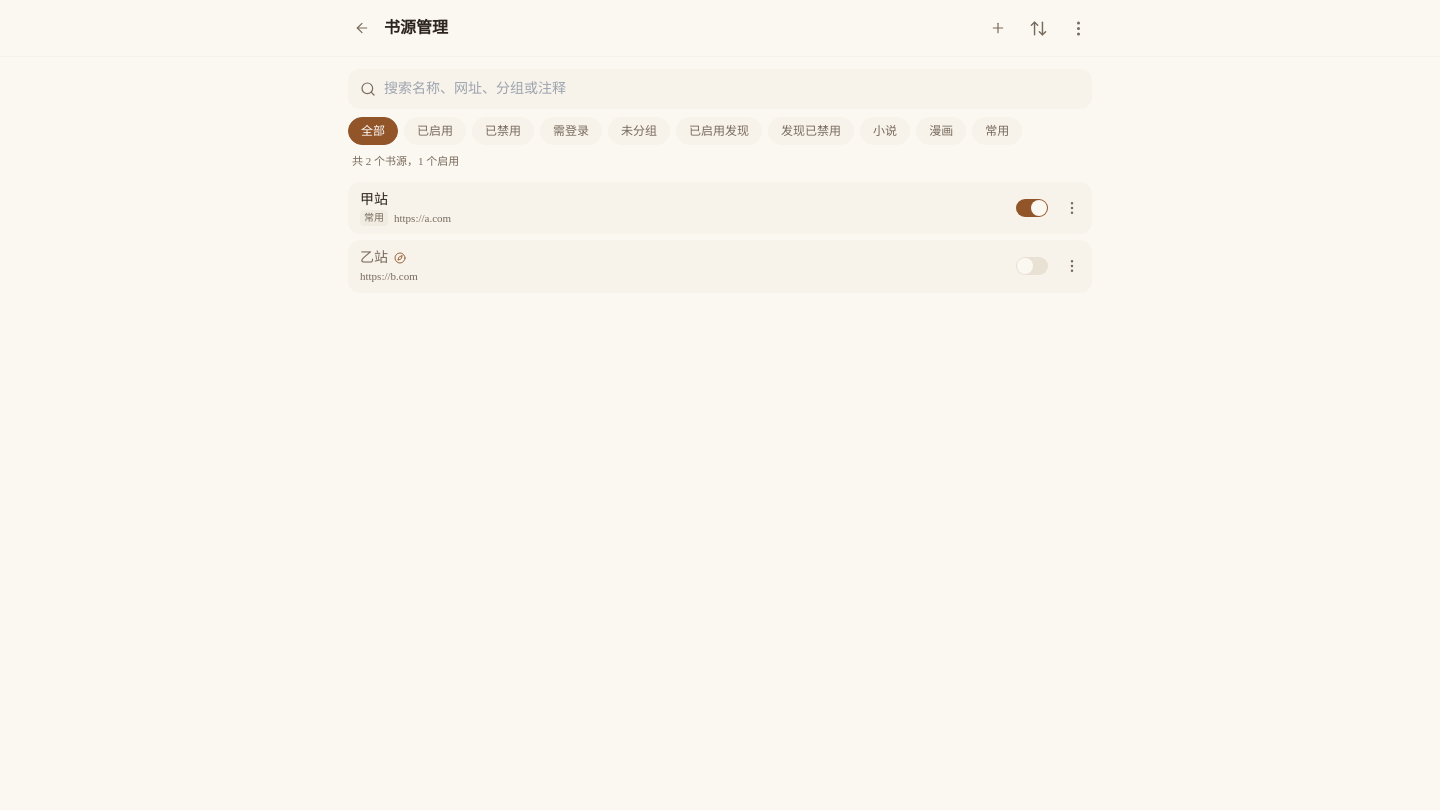
Test: 书源管理 › checks sources and reports progress until done
Expected: the text "甲站" is shown, [360, 190, 388, 210]
Click the button named "甲站 的更多操作" at (1072, 208), box [1056, 192, 1088, 224]
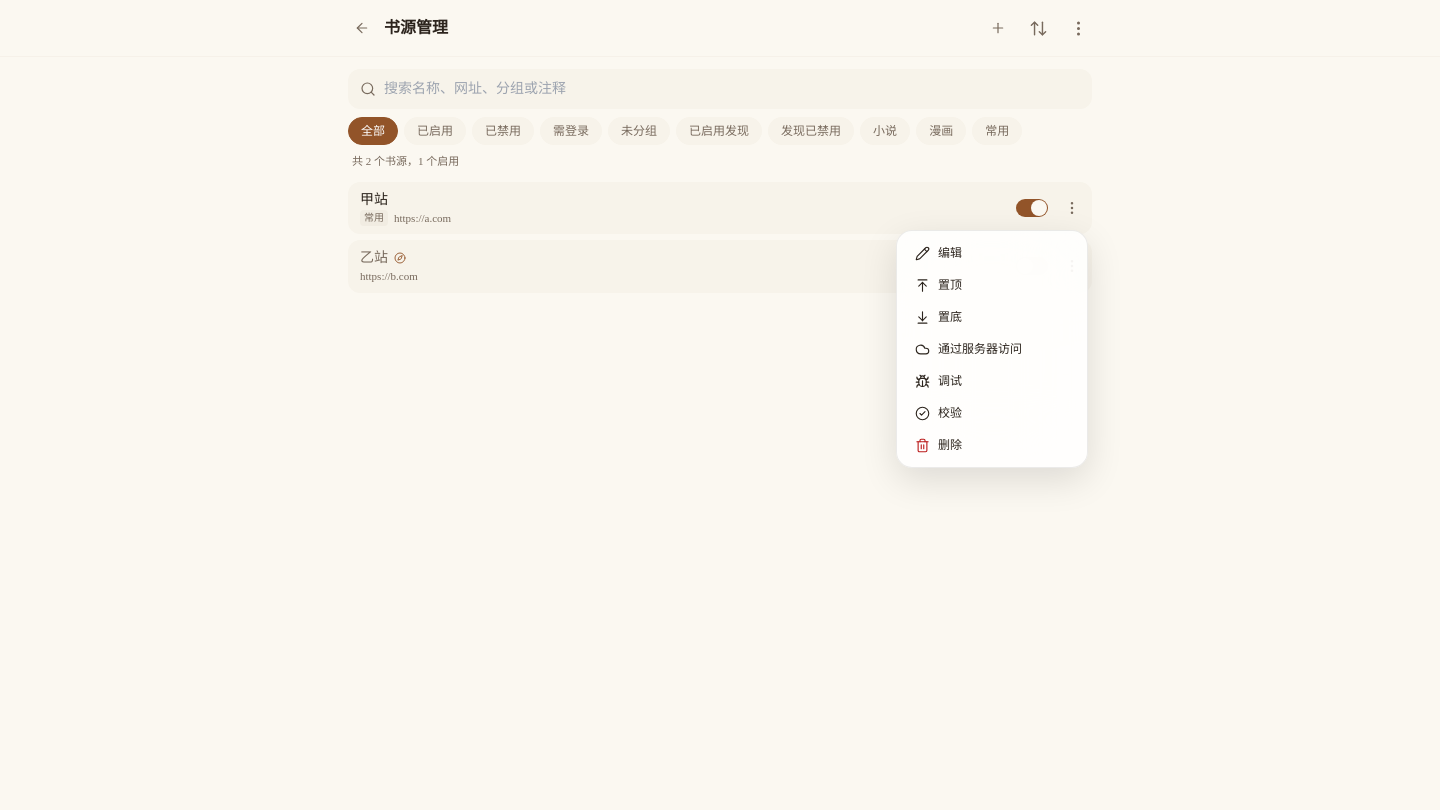
Click the menu item "校验" at (938, 413), box [915, 406, 962, 420]
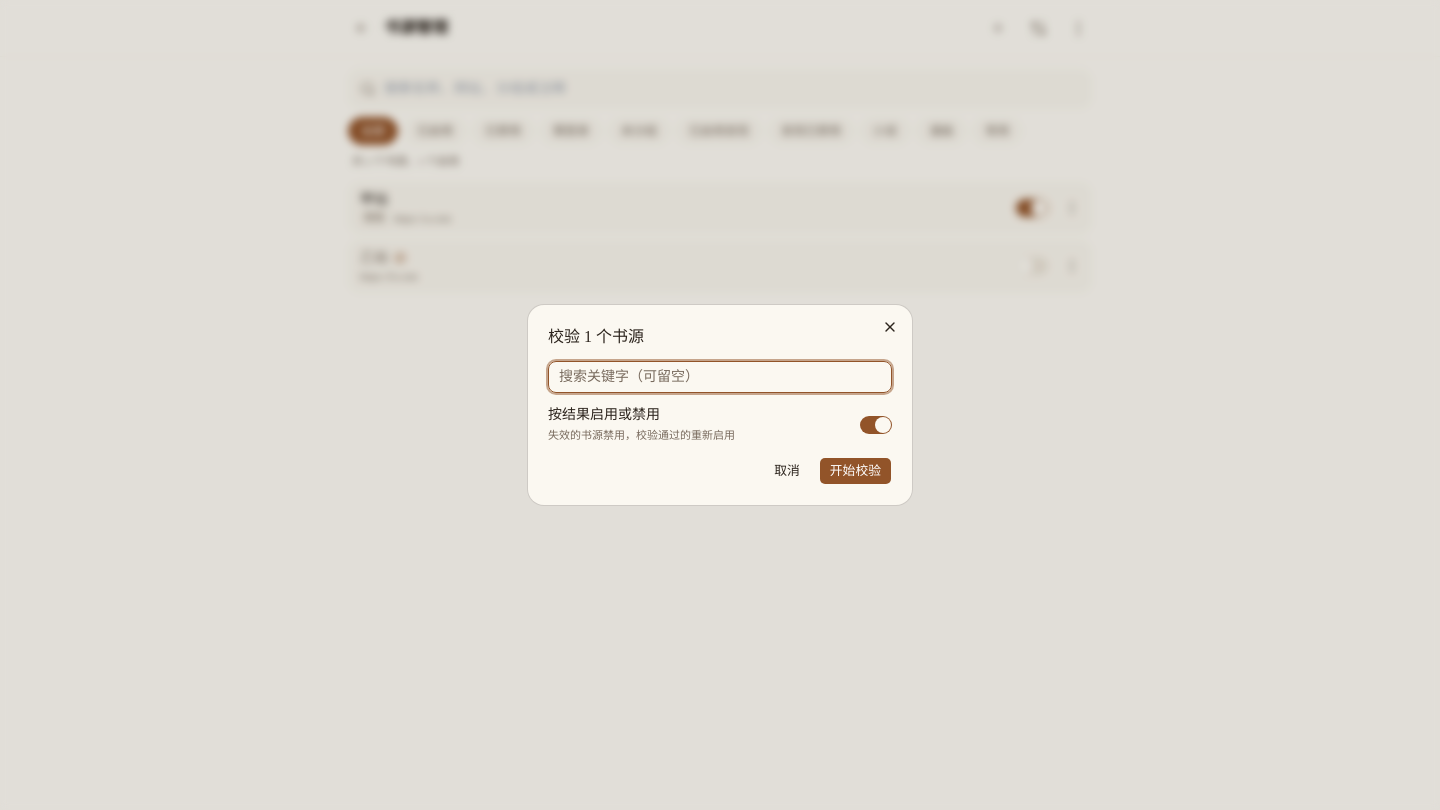
Click the button "开始校验" at (855, 471), box [819, 457, 892, 485]
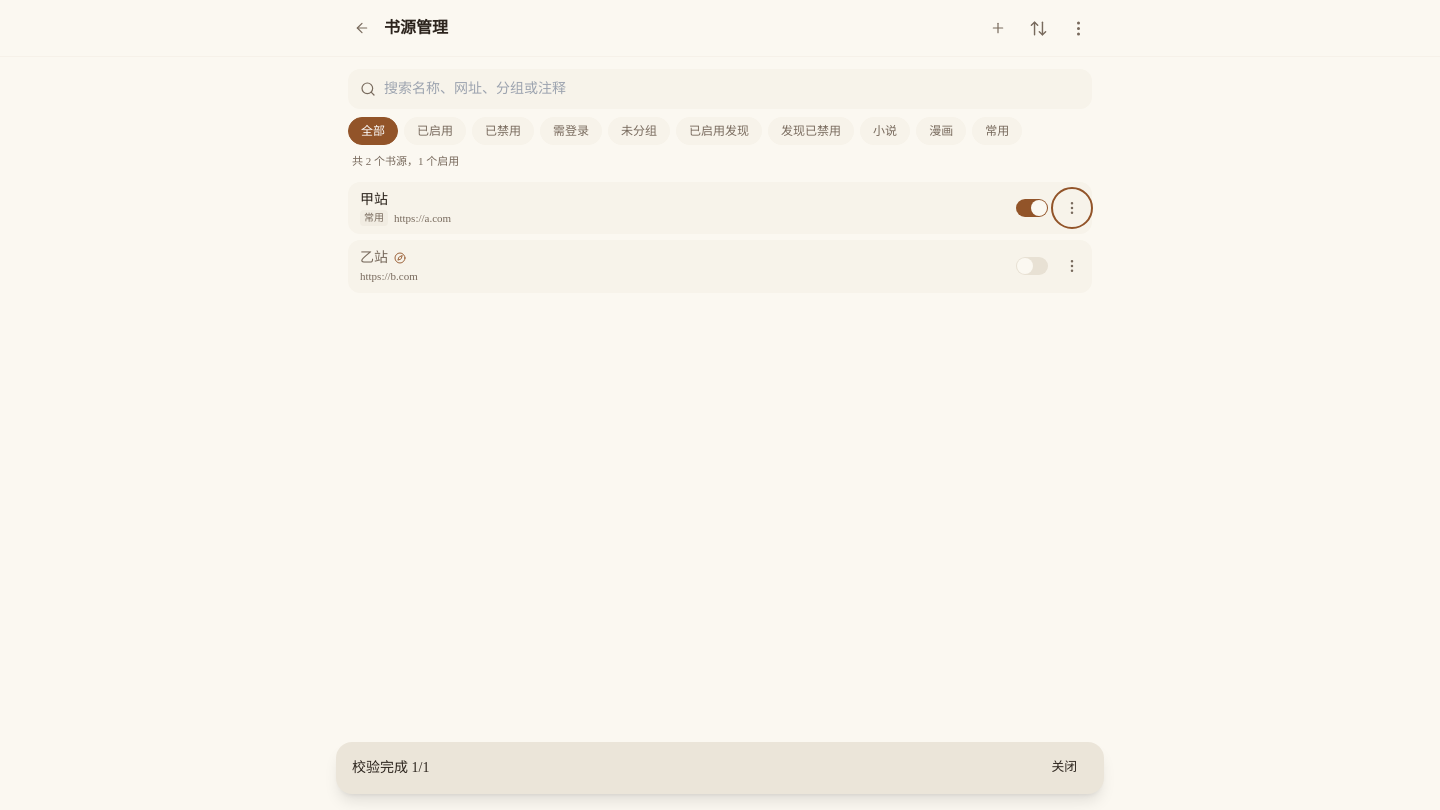
Result: the text "校验完成 1/1" is shown at [352, 760, 429, 775]
